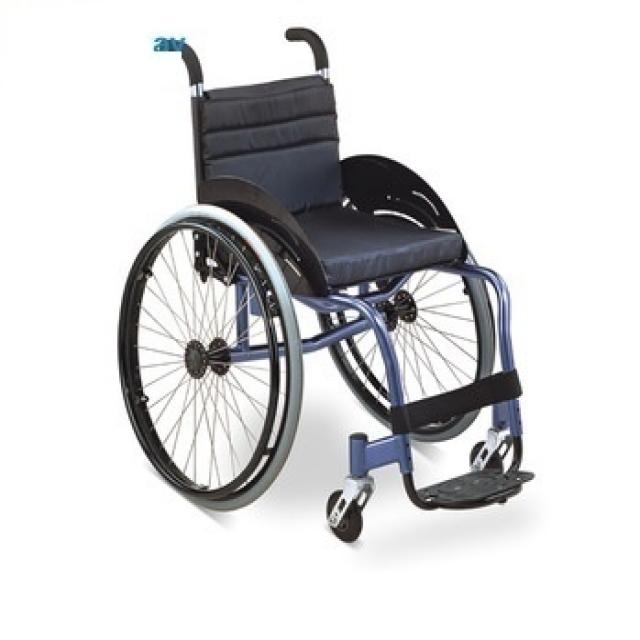wheelchair: (105, 19, 562, 561)
